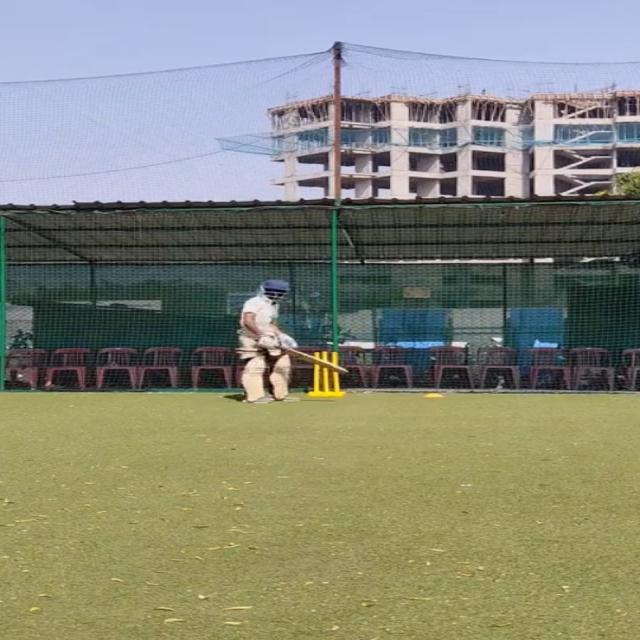stump: (312, 351, 341, 398)
